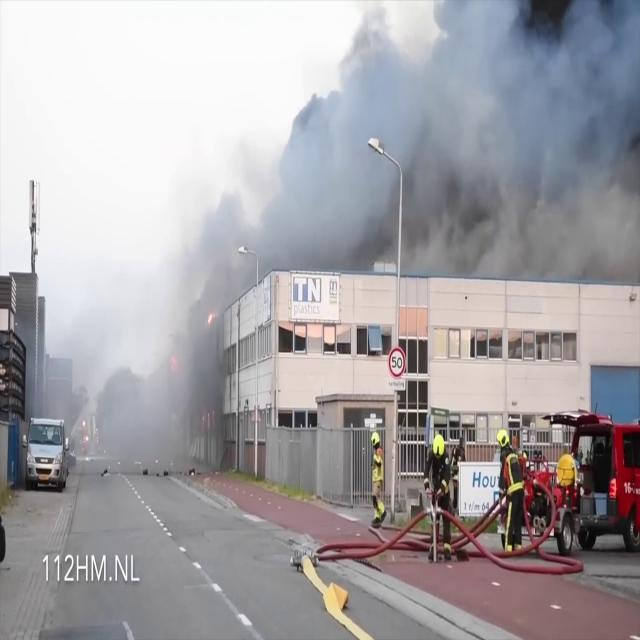Smoke: (225, 0, 640, 274), (90, 246, 228, 488)
